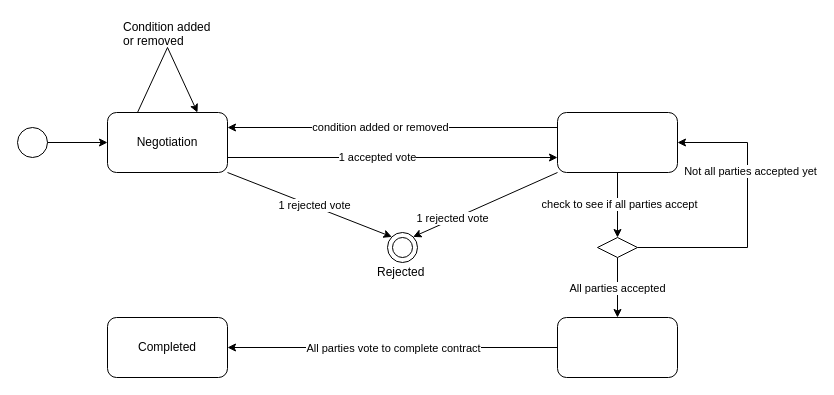
This 834x395 diagram has some shape labels left out. Each missing label, with the centre of its shape:
Accepted: [617,347]
Tentativley_Accepted: [617,142]
